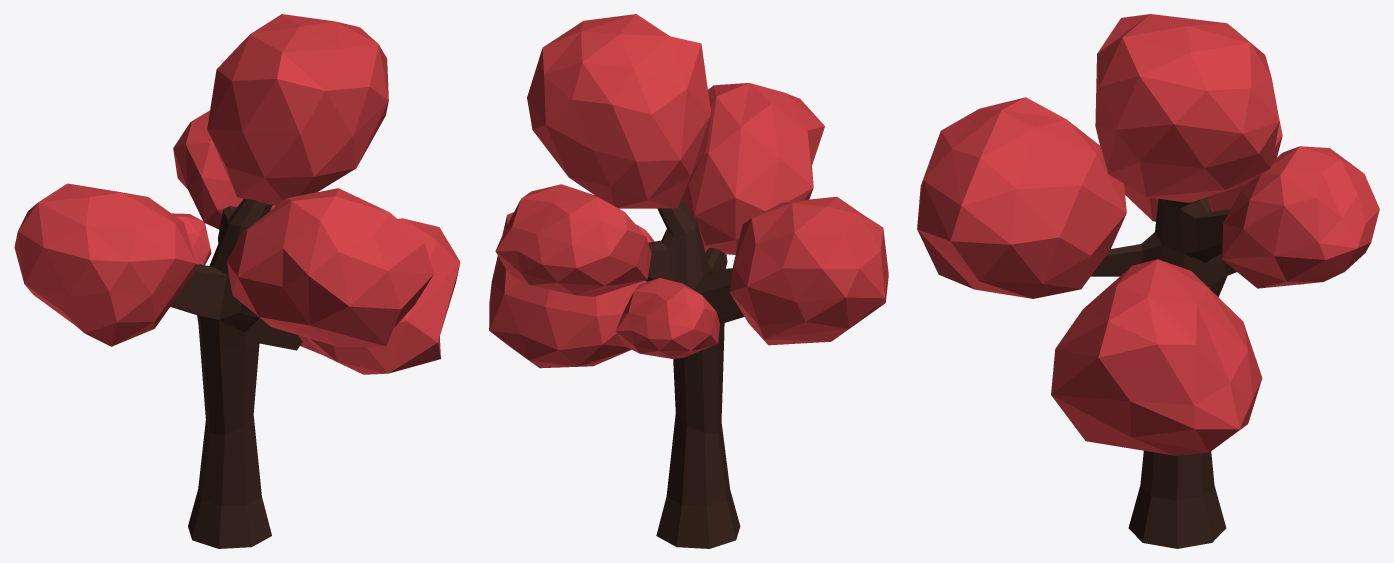
The model's file is MapleTree1.fbx.
3 views of the same model, side by side, from view 1: azimuth 30°, elevation 25°; view 2: azimuth 150°, elevation 25°; view 3: azimuth 270°, elevation 25° (orthographic). The views are drawn at different scales.
Parts seen in each view (by area): view 1: Cylinder.003; view 2: Cylinder.003; view 3: Cylinder.003.
Part boxes in pixels (x1=…): Cylinder.003: x1=14, y1=14, x2=460, y2=548; Cylinder.003: x1=489, y1=14, x2=888, y2=548; Cylinder.003: x1=917, y1=14, x2=1379, y2=548.
Size of the model in its own units: 389 by 447 by 346.
